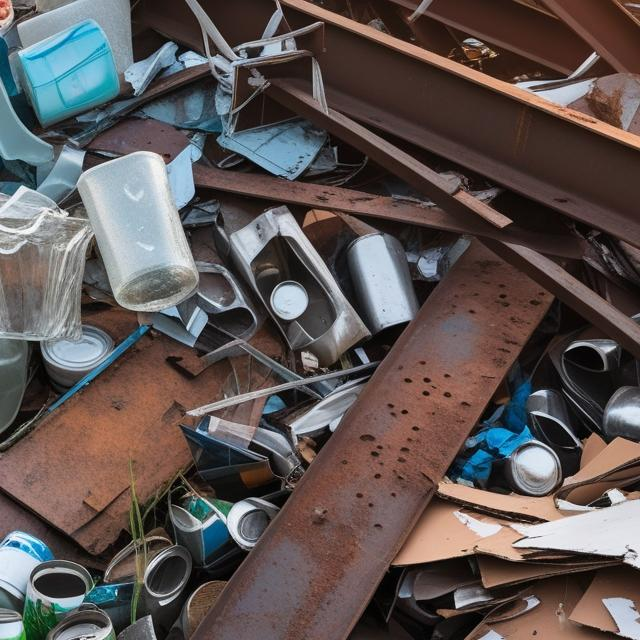metal: (333, 231, 419, 330)
